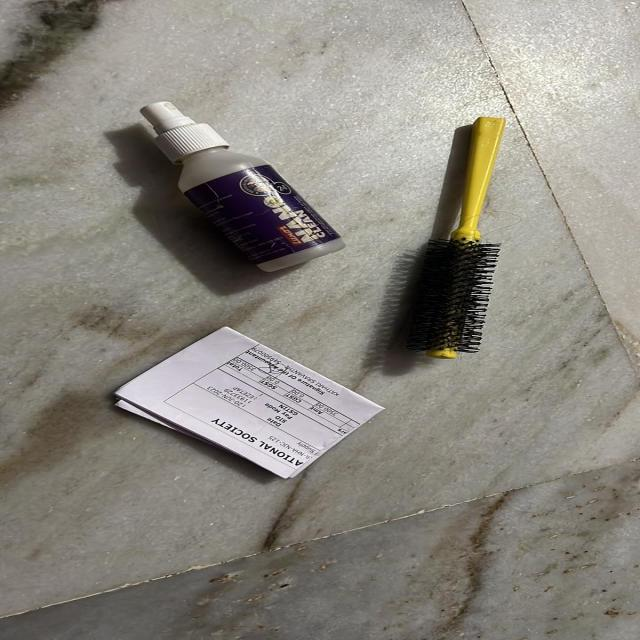paper: (112, 326, 387, 478)
plastic: (137, 99, 350, 277), (405, 116, 502, 362)
